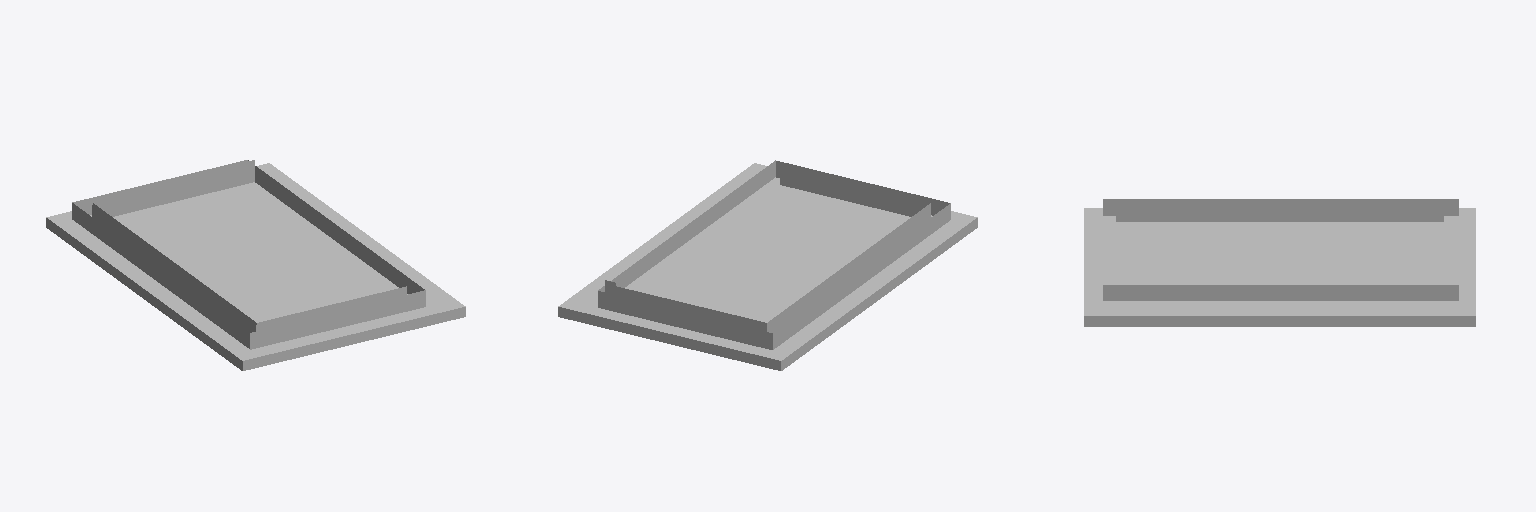
3 views of the same model, side by side, from view 1: azimuth 30°, elevation 25°; view 2: azimuth 150°, elevation 25°; view 3: azimuth 270°, elevation 25° (orthographic).
Parts seen in each view (by area): view 1: Base; view 2: Base; view 3: Base.
Boxes of the visible parts, <box> form: Base: <box>46,160,465,370</box>; Base: <box>558,160,977,370</box>; Base: <box>1084,199,1475,326</box>.
Size of the model in its own units: 21.29 by 2.99 by 32.45.